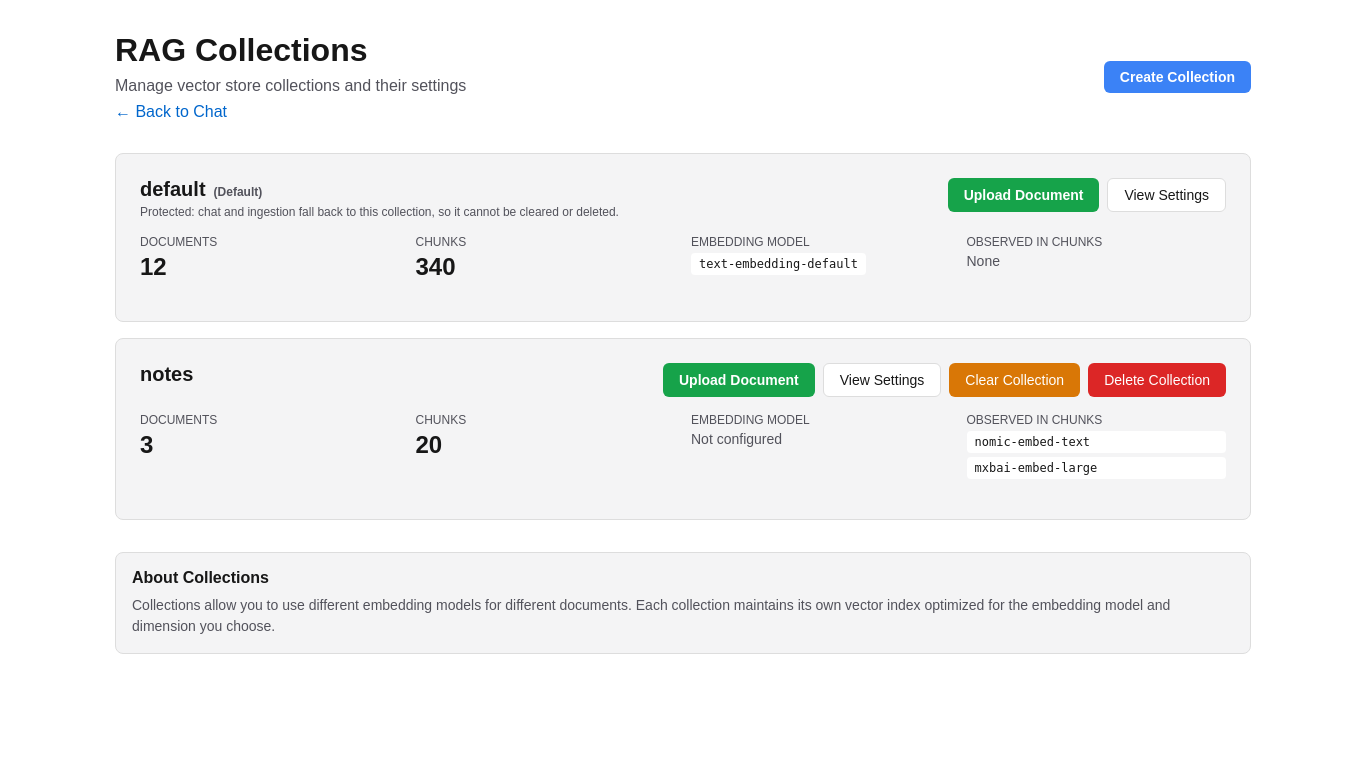
Test case: CollectionsPage › views collection settings, edits, saves, and closes via the Close button
Expected: the heading "notes" is shown, [140,363,193,386]
Click the button "View Settings" in the row of "notes" at (882, 380), box [823,363,941,397]
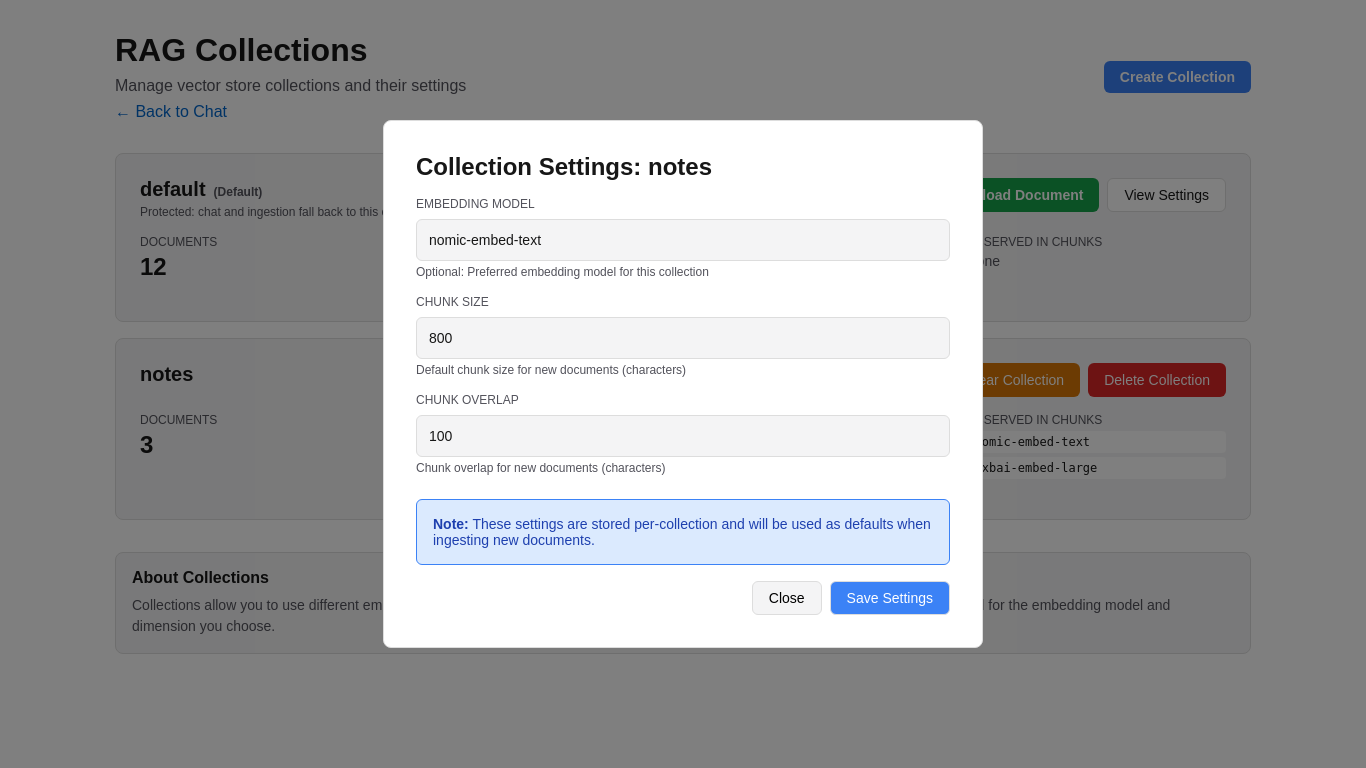
Result: the heading "Collection Settings: notes" is shown at [416,153,712,180]
Result: the field showing "nomic-embed-text" is shown at [416,219,950,261]
Result: the 1st number field showing "800" is shown
Replace the text in the 1st number field showing "800" with "1000" at (683, 338), box [416,317,950,359]
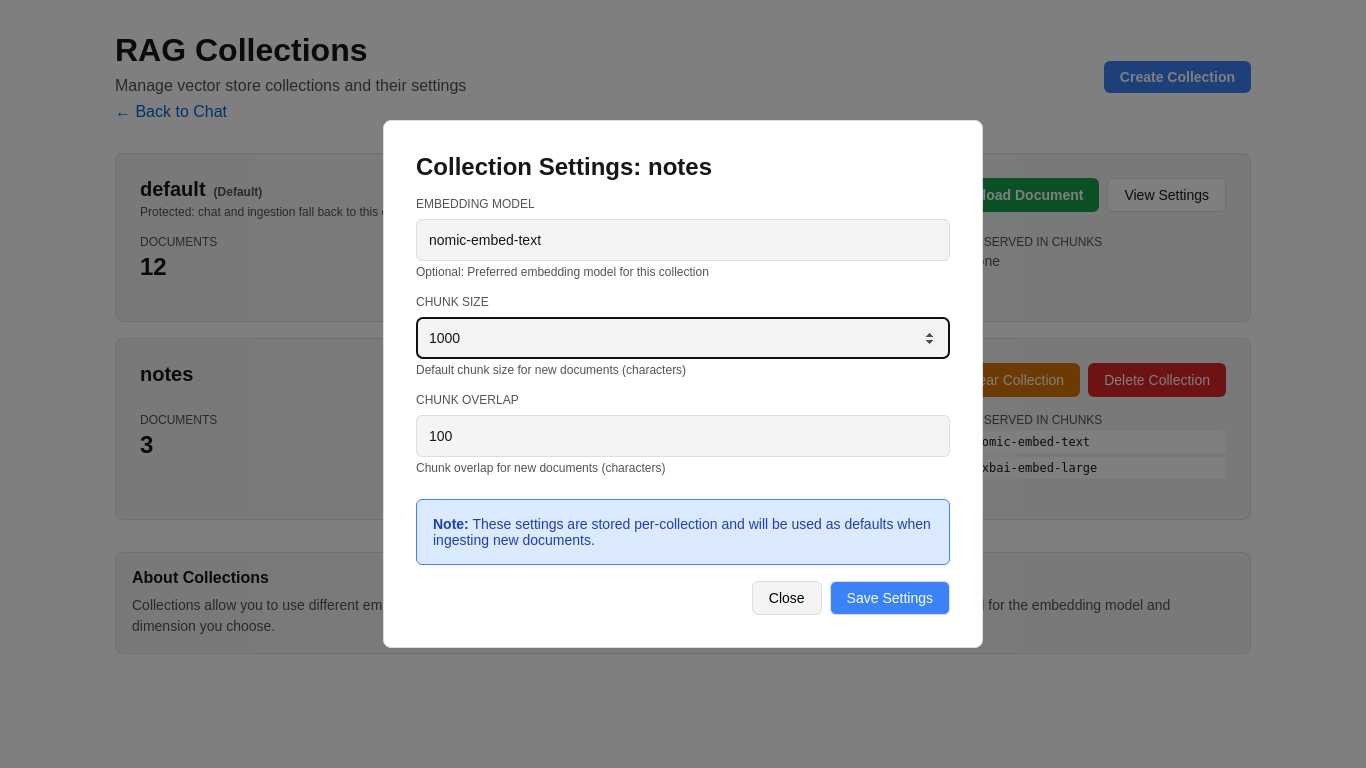
Replace the text in the field showing "nomic-embed-text" with "mxbai-embed-large" at (683, 240), box [416,219,950,261]
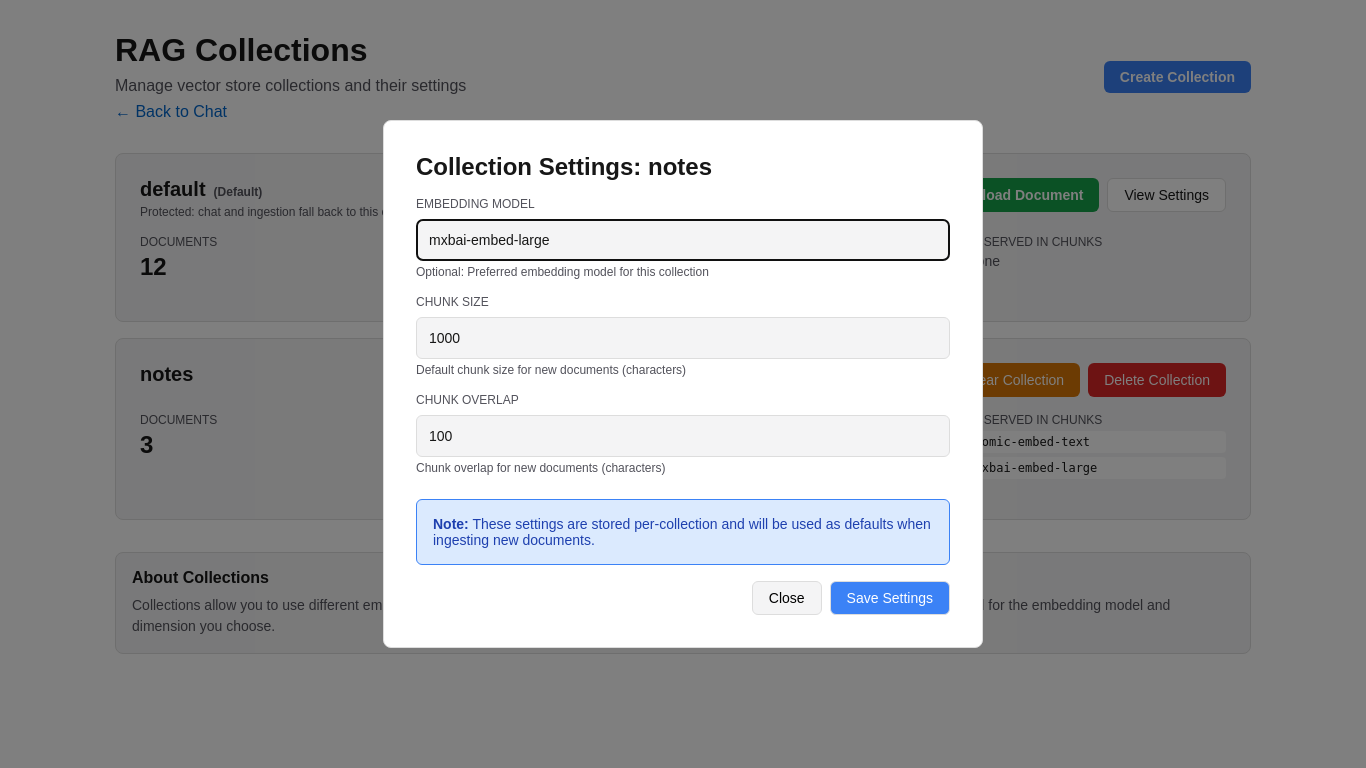
Replace the text in the 2nd number field showing "100" with "120" at (683, 436), box [416,415,950,457]
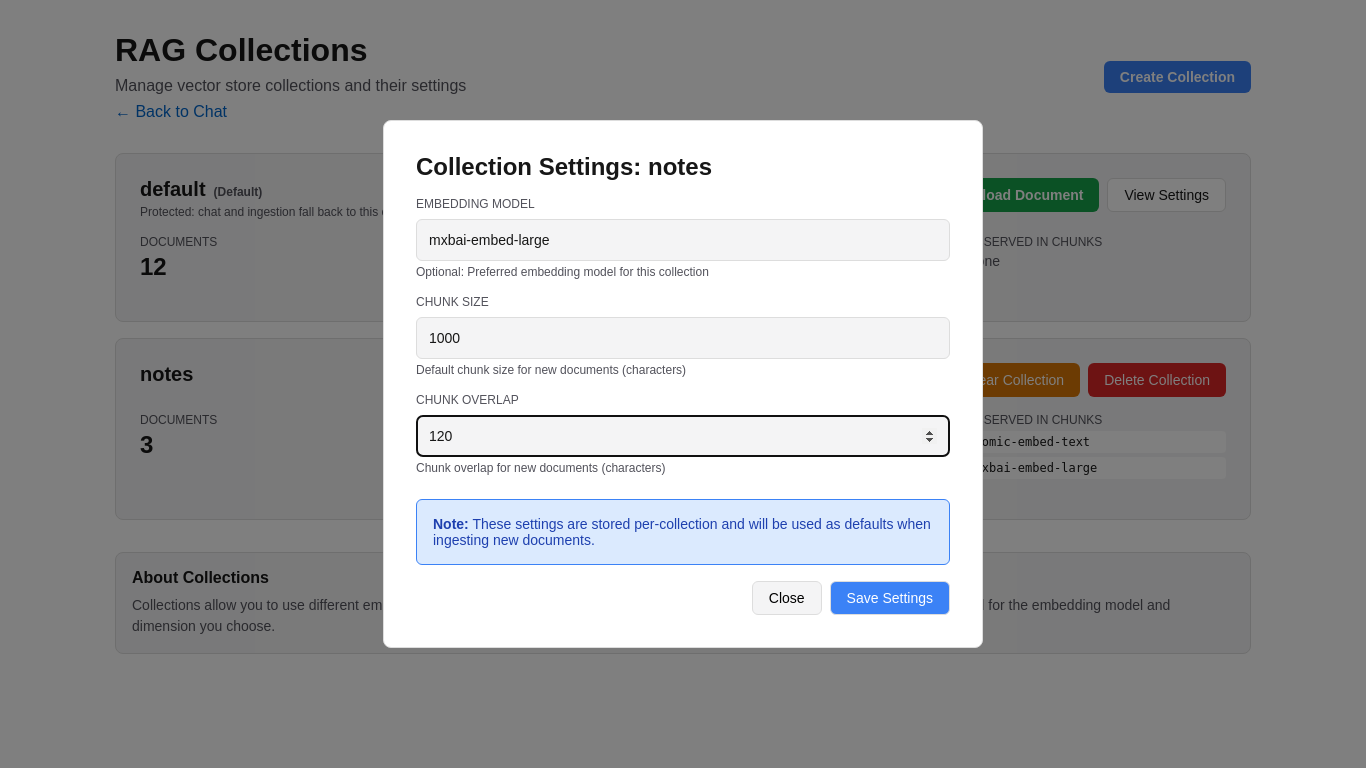
Click the button "Save Settings" at (890, 598), box [830,581,950,615]
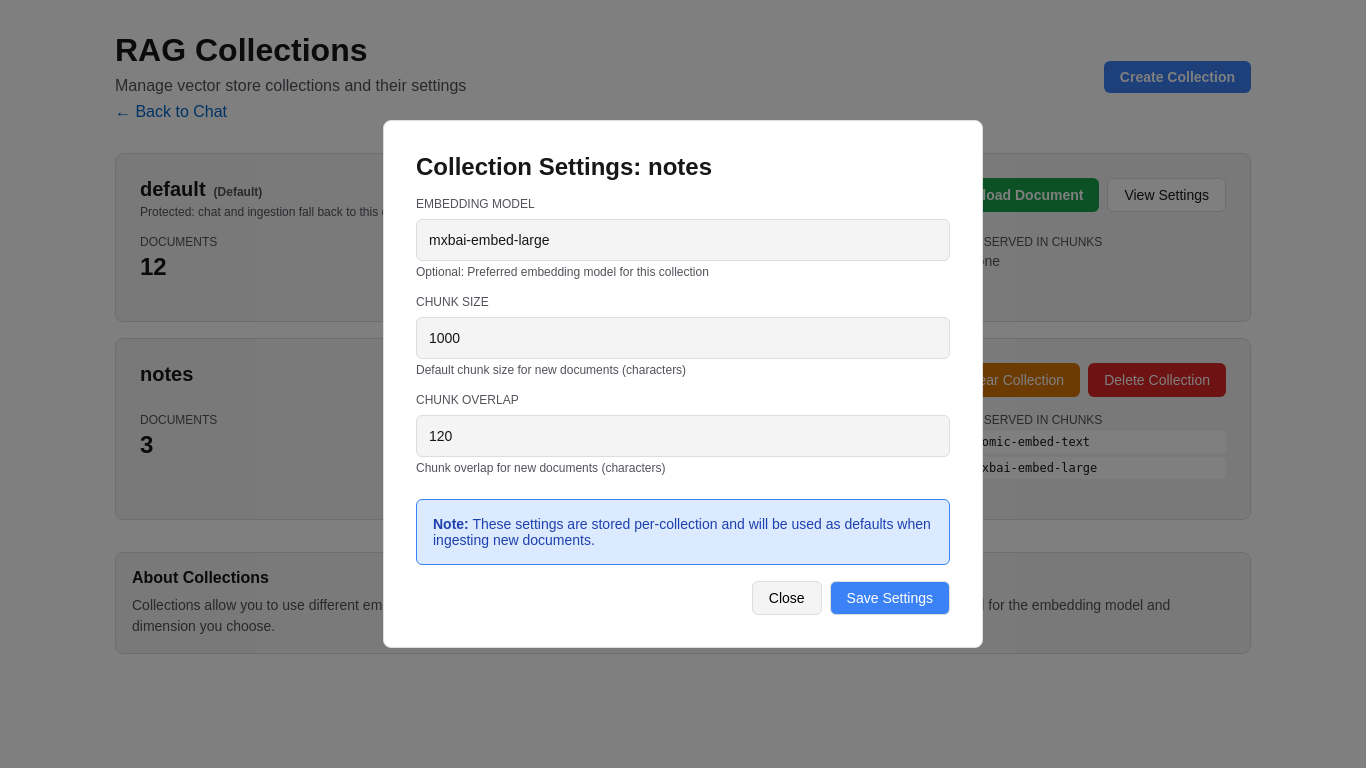
Click the button "Close" at (787, 598), box [752,581,822,615]
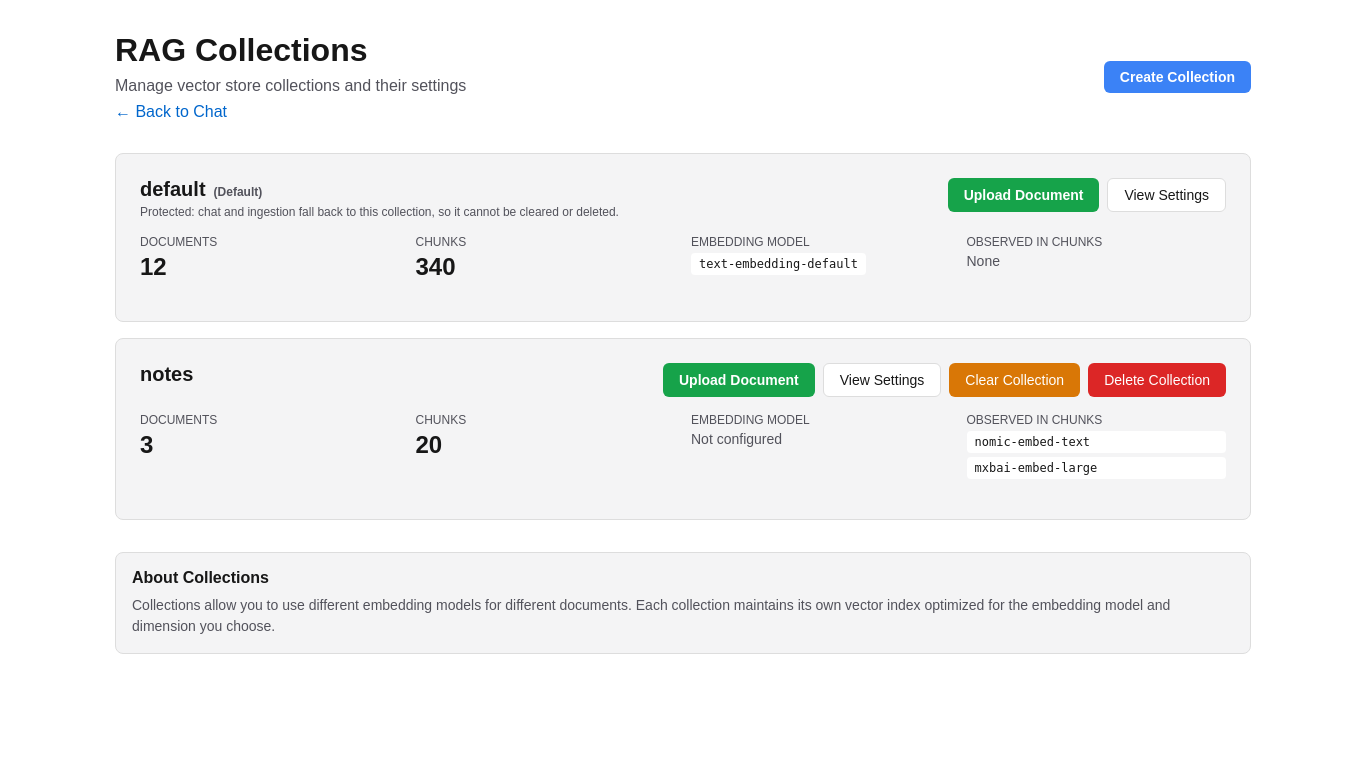
Result: the heading "Collection Settings: notes" is gone
